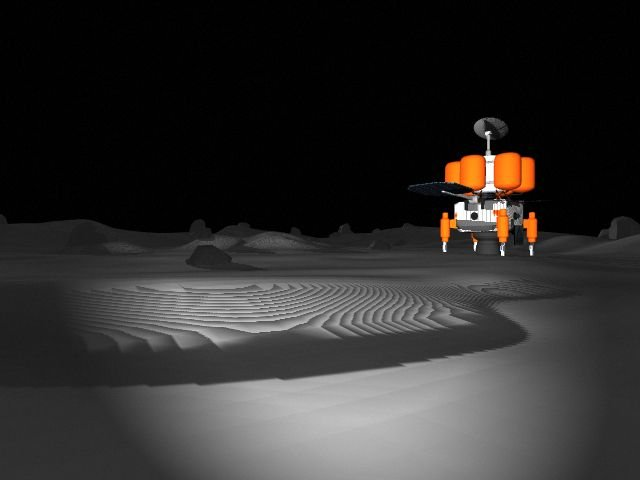homebase: (405, 114, 567, 258)
